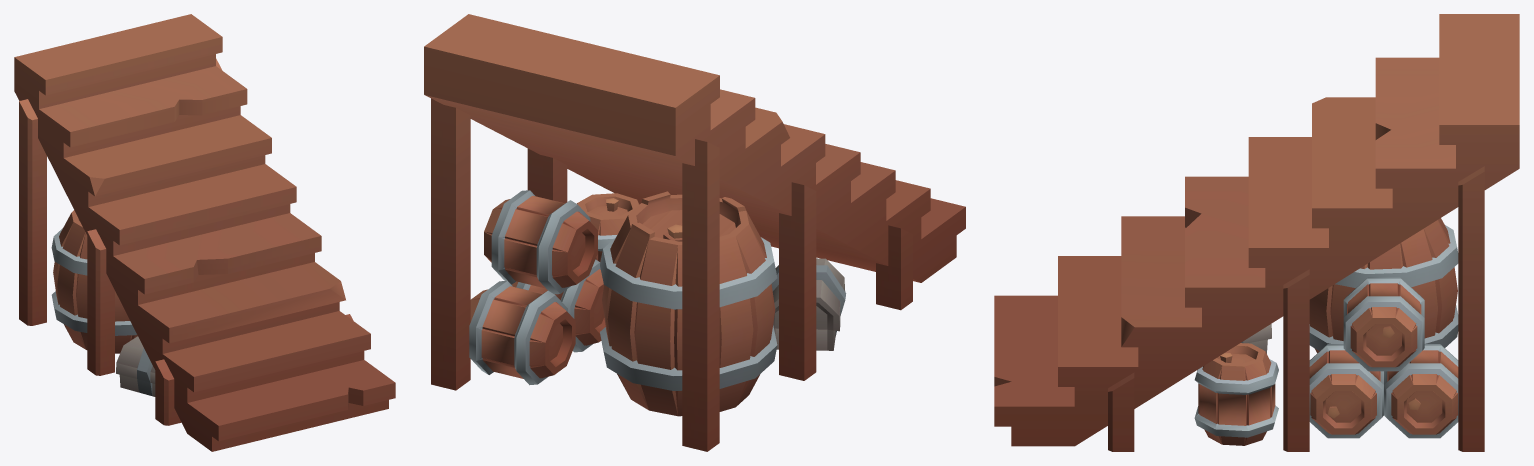
Rendered from stairs-wood-decorated-gltf.glb.
3 renders of one model, left to right at view 1: azimuth 30°, elevation 25°; view 2: azimuth 150°, elevation 25°; view 3: azimuth 270°, elevation 25°, orthographic. The views are drawn at different scales.
Parts seen in each view (by area): view 1: stairs_wood_decorated; view 2: stairs_wood_decorated; view 3: stairs_wood_decorated.
Boxes of the visible parts, left/top/right/bottom form: stairs_wood_decorated: left=14, top=14, right=395, bottom=451; stairs_wood_decorated: left=424, top=14, right=965, bottom=451; stairs_wood_decorated: left=994, top=14, right=1519, bottom=451.
Size of the model in its own units: 3.3 by 4.05 by 6.
Materials: 1 (1 with a texture image).
